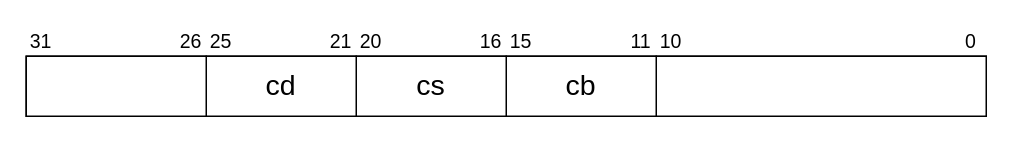
This 1013x143 diagram has some shape labels left out. The centre of each missing label's shape, as x and y in pixels:
"0x3d" belongs at (115,85).
"offset" belongs at (820,85).
